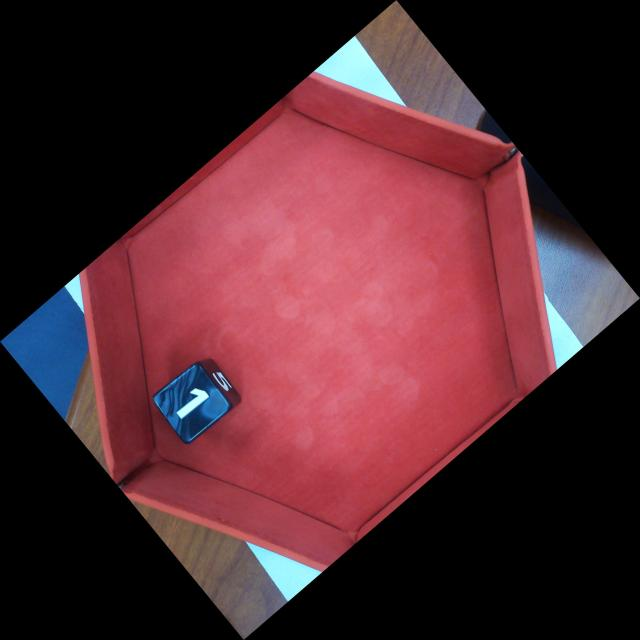dice: (152, 362, 233, 444)
